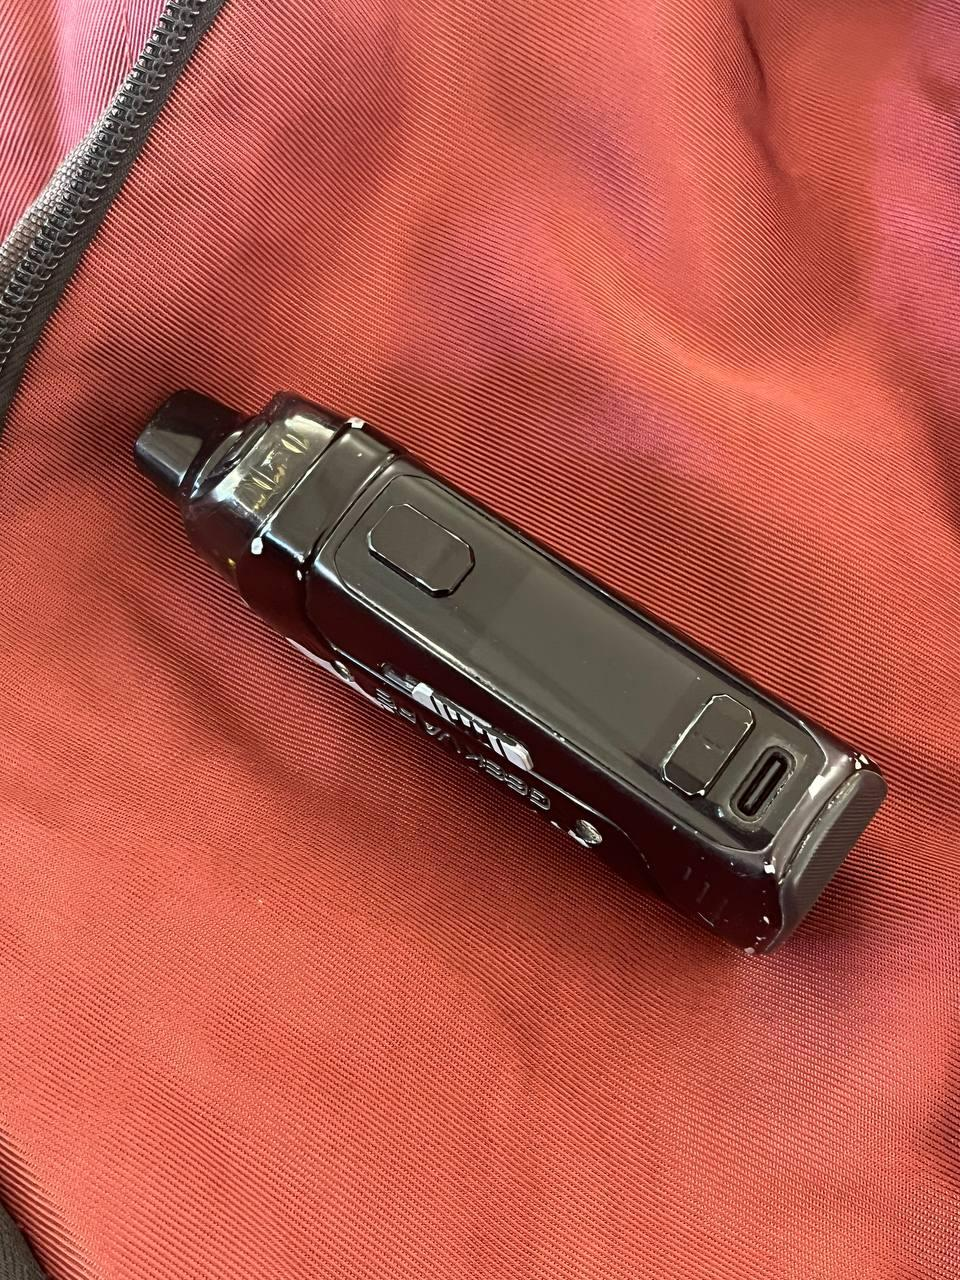Vape: (134, 390, 885, 954)
